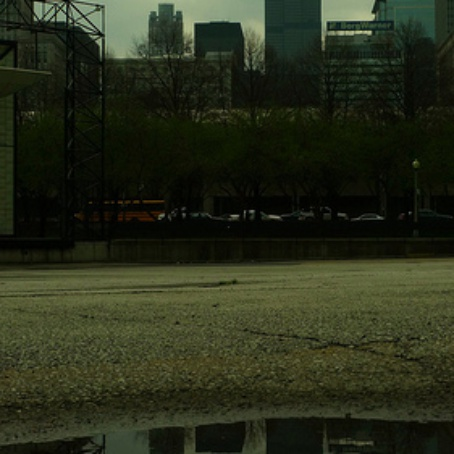building: (320, 29, 409, 129), (103, 51, 232, 111), (261, 3, 324, 104), (143, 1, 191, 63), (189, 16, 243, 63)
vegetation: (36, 77, 454, 201)
